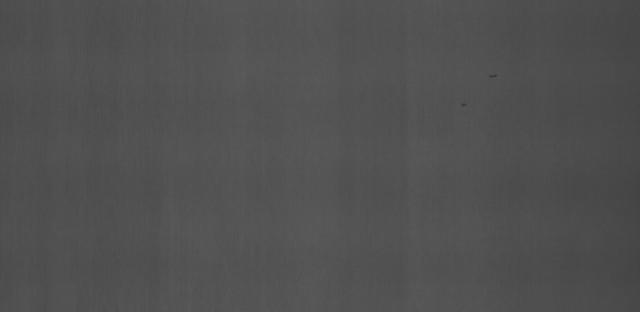inclusion: (483, 62, 513, 93), (460, 94, 475, 112)
